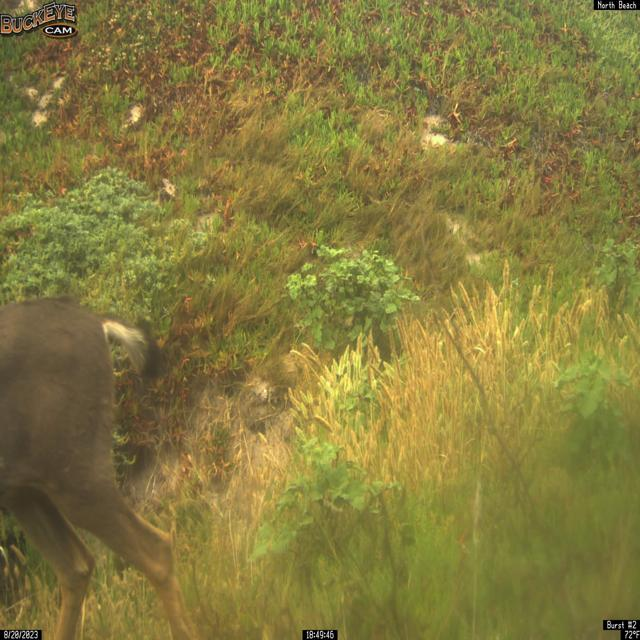deer: (0, 293, 212, 640)
